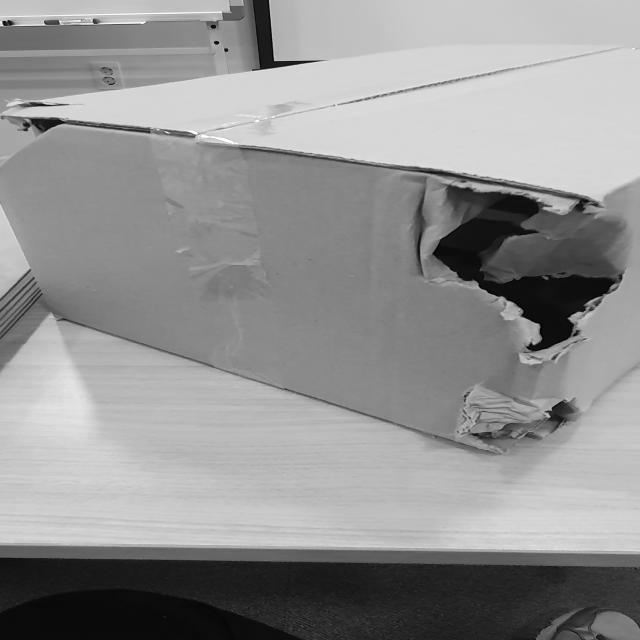hole: (414, 178, 628, 342), (0, 94, 72, 179), (455, 399, 573, 441)
